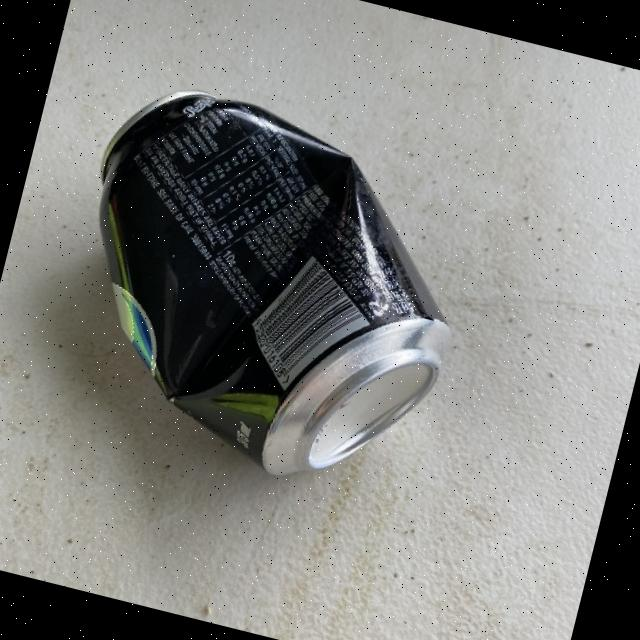metal: (36, 68, 494, 509)
